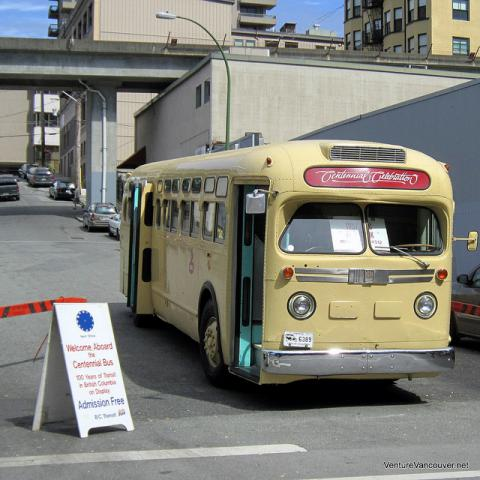bus: (115, 139, 480, 390)
car: (449, 263, 479, 342), (82, 203, 118, 231), (26, 167, 56, 187), (47, 181, 76, 200), (108, 212, 122, 241), (18, 164, 39, 178)
truck: (0, 175, 21, 203)
